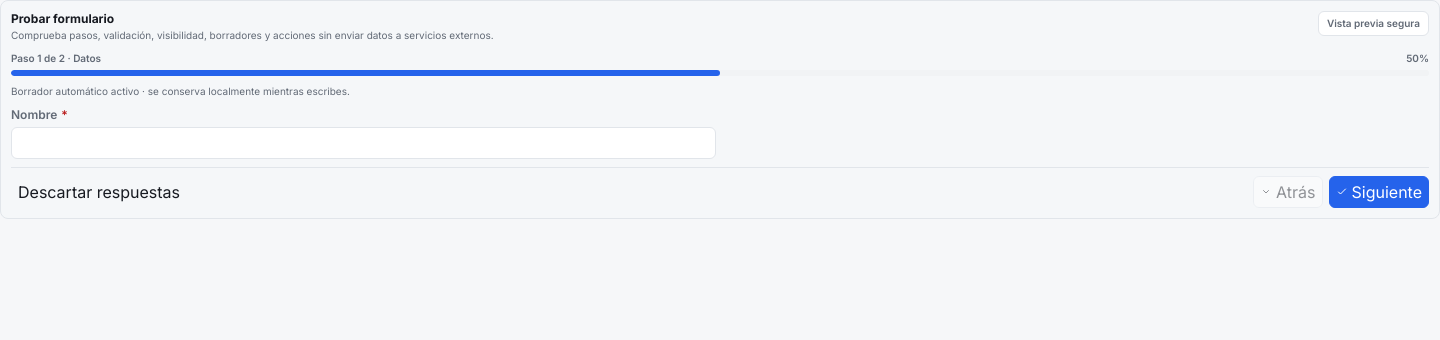
M11.3/M11.4 FormValidationPreview › ejecuta acciones seguras en orden y muestra su resultado sin salir del editor
This screenshot has width=1440, height=340.
Type "Ada" into the field labelled "Nombre*" at point(364, 143), box [11, 127, 716, 159]
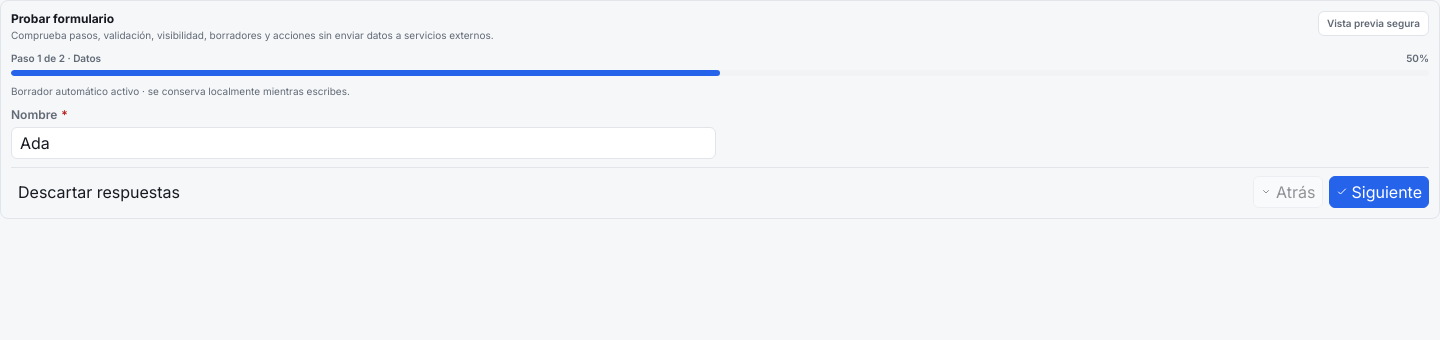
Click the button "Siguiente" at point(1379, 192), box [1328, 176, 1429, 208]
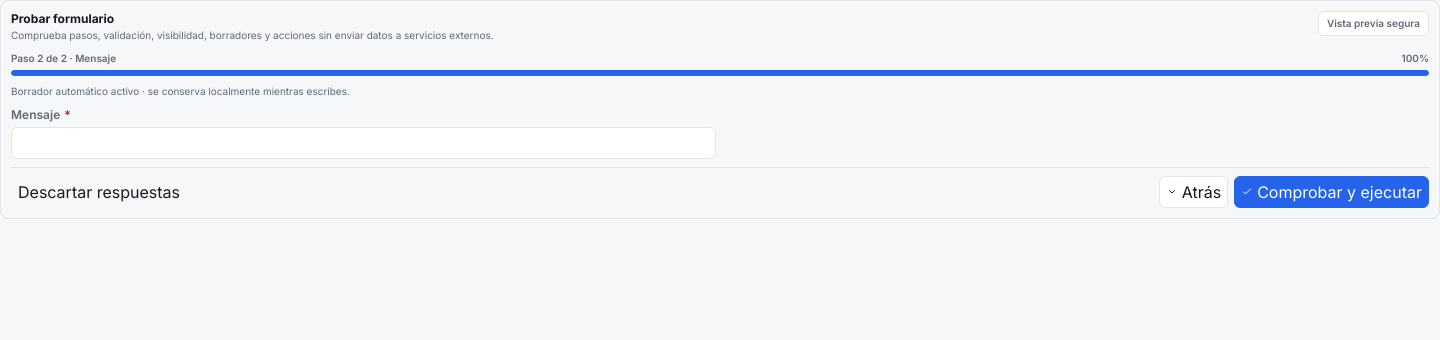
Type "Hola" into the field labelled "Mensaje*" at point(364, 143), box [11, 127, 716, 159]
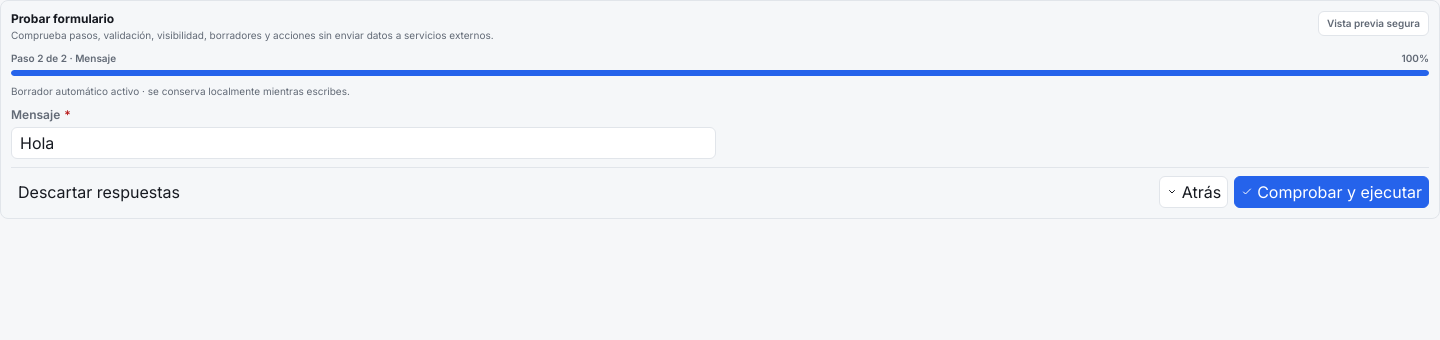
Click the button "Comprobar y ejecutar" at point(1332, 192), box [1234, 176, 1429, 208]
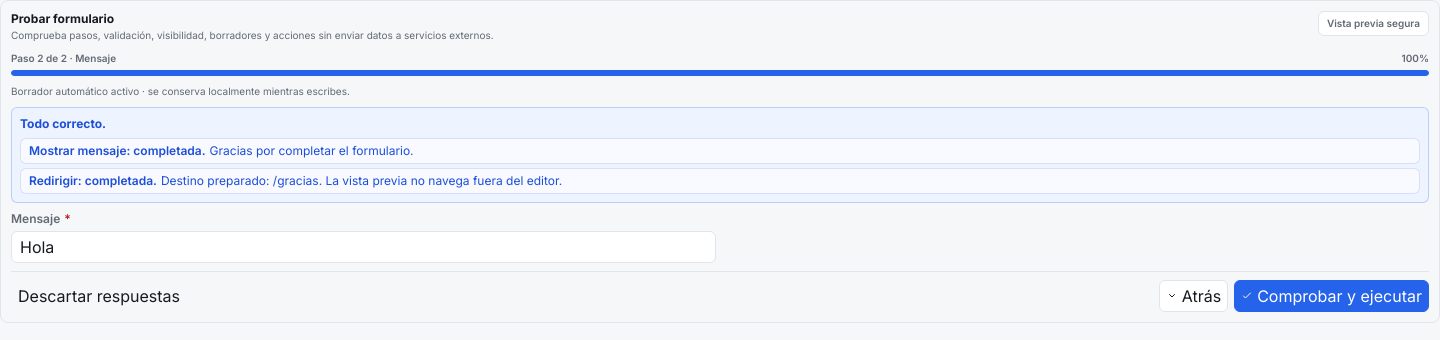
Result: the text "Todo correcto." is shown at [20, 116, 106, 131]
Result: the text "Mostrar mensaje: completada." is shown at [29, 143, 206, 158]
Result: the text "Gracias por completar el formulario." is shown at [210, 143, 414, 158]
